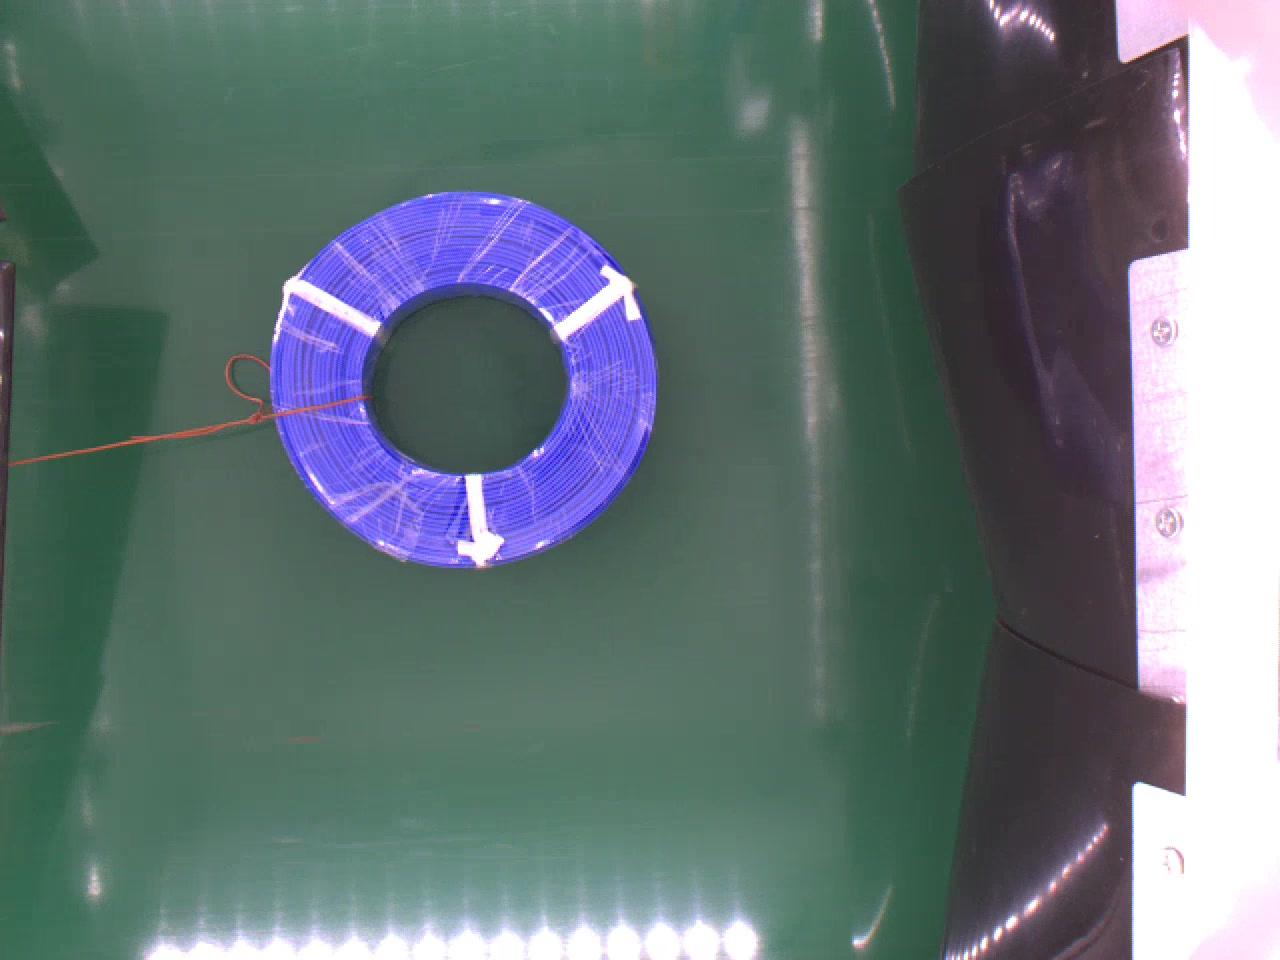blue: (264, 185, 664, 571)
